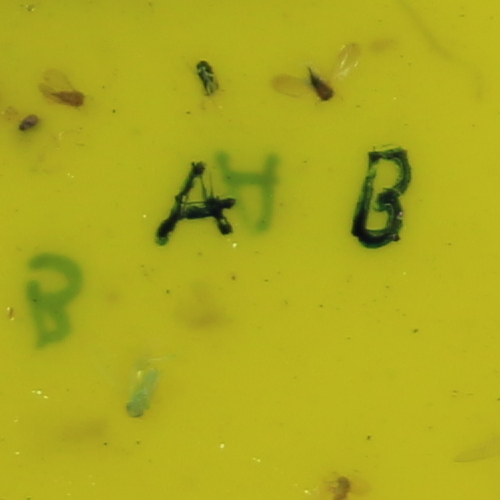Glycaspis: (308, 67, 338, 102), (48, 87, 85, 109)
Psyllaephagus: (195, 62, 219, 94)
cicada: (123, 392, 149, 422)
